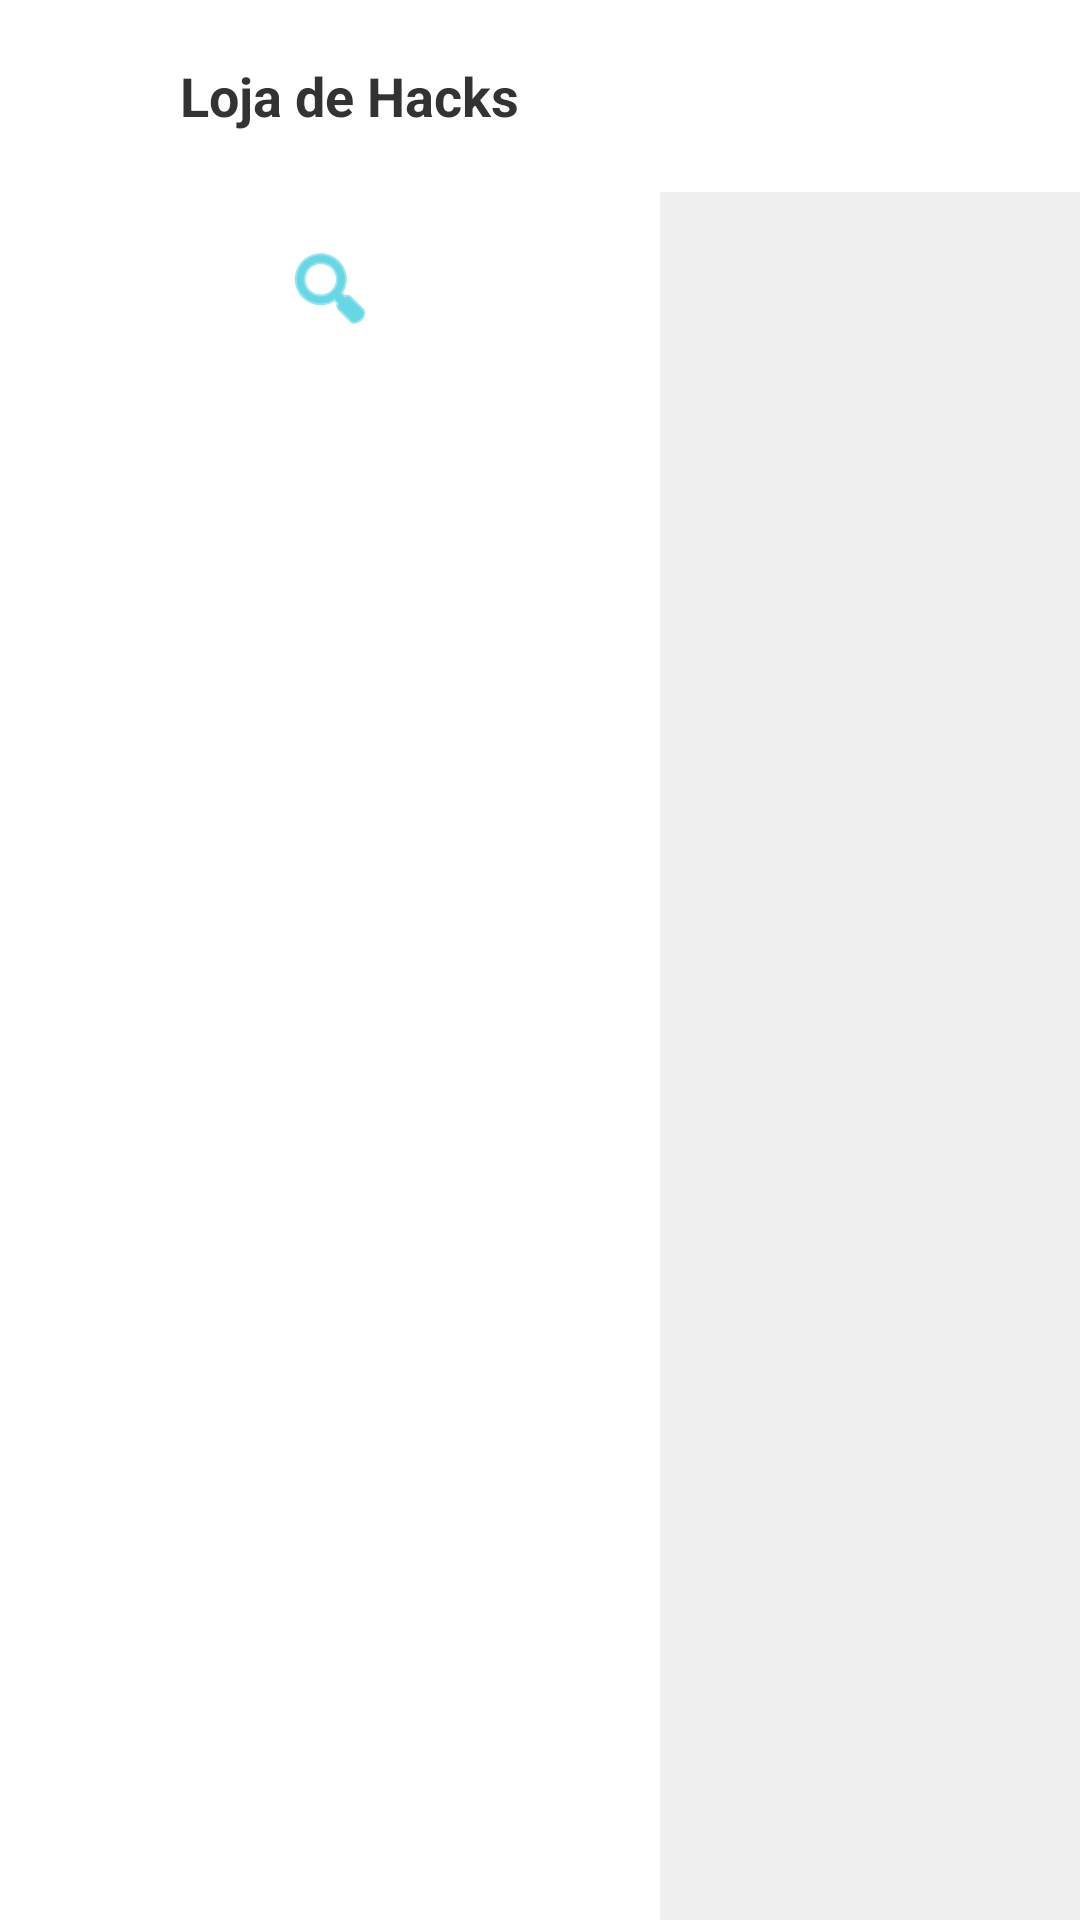

Icon click points for this 1080*1920 phone screenshot, format point (x, y):
Buscar: point (330, 288)
